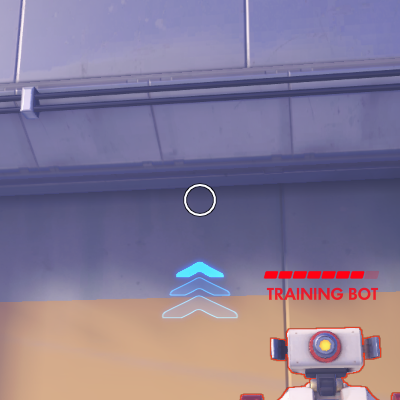hpbar: (264, 271, 379, 279)
